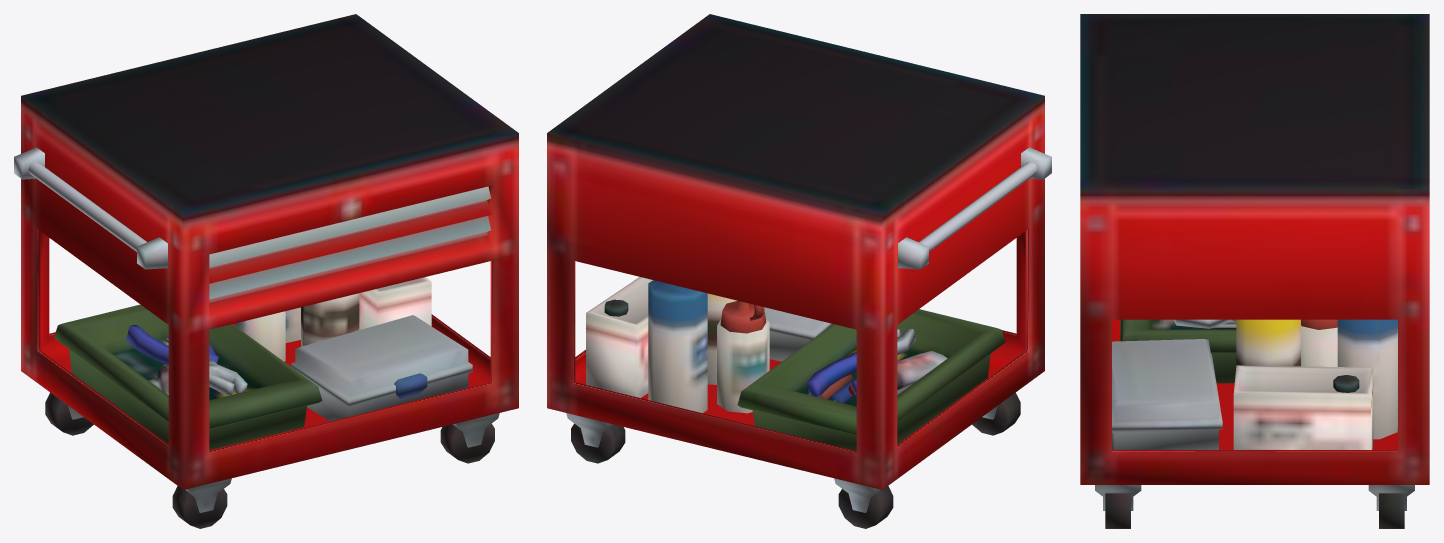
The picture shows the model from 3 angles, left to right: view 1: azimuth 30°, elevation 25°; view 2: azimuth 150°, elevation 25°; view 3: azimuth 270°, elevation 25°; orthographic projection. The views are drawn at different scales.
Bounding box in the file's own units: 9.09 × 8 × 7.16.
Materials: 1 (1 with a texture image).
